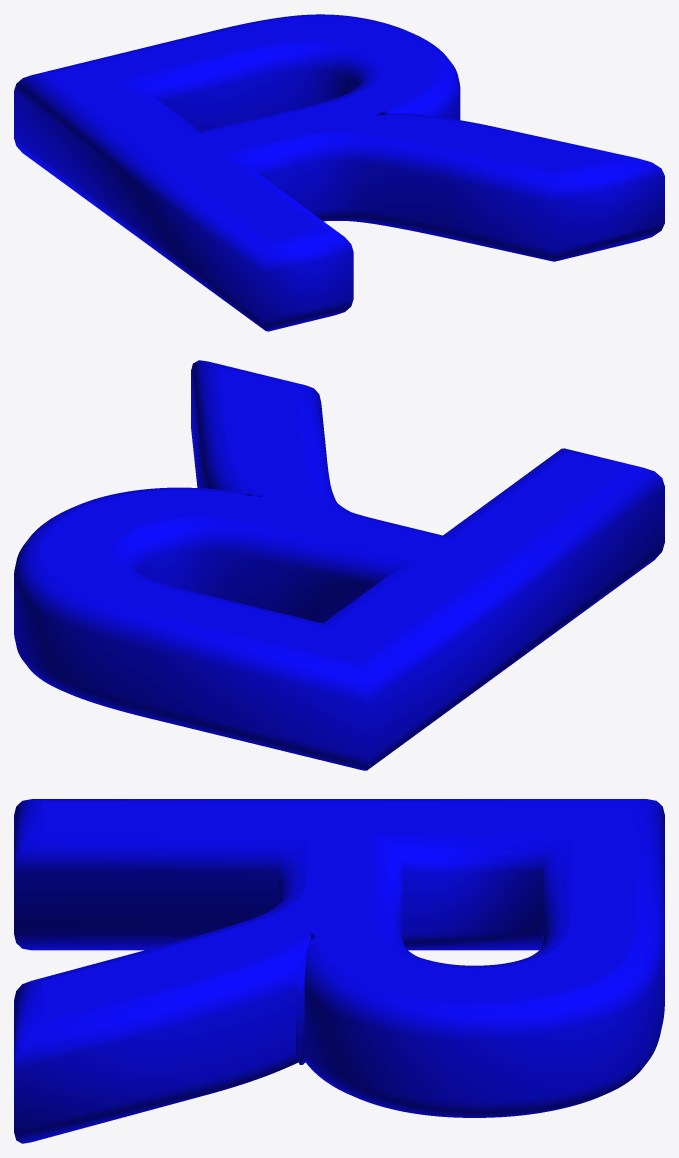
The picture shows the model from 3 angles, top to bottom: view 1: azimuth 30°, elevation 25°; view 2: azimuth 150°, elevation 25°; view 3: azimuth 270°, elevation 25°; orthographic projection. The views are drawn at different scales.
Visible parts, largest first — view 1: texto; view 2: texto; view 3: texto.
Part boxes in pixels (left/top/right/bottom): texto: left=14, top=14, right=664, bottom=331; texto: left=14, top=360, right=664, bottom=770; texto: left=14, top=799, right=664, bottom=1143.
Bounding box in the file's own units: 1.07 × 0.22 × 1.15.
